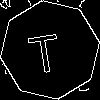T: (25, 25, 63, 75)
